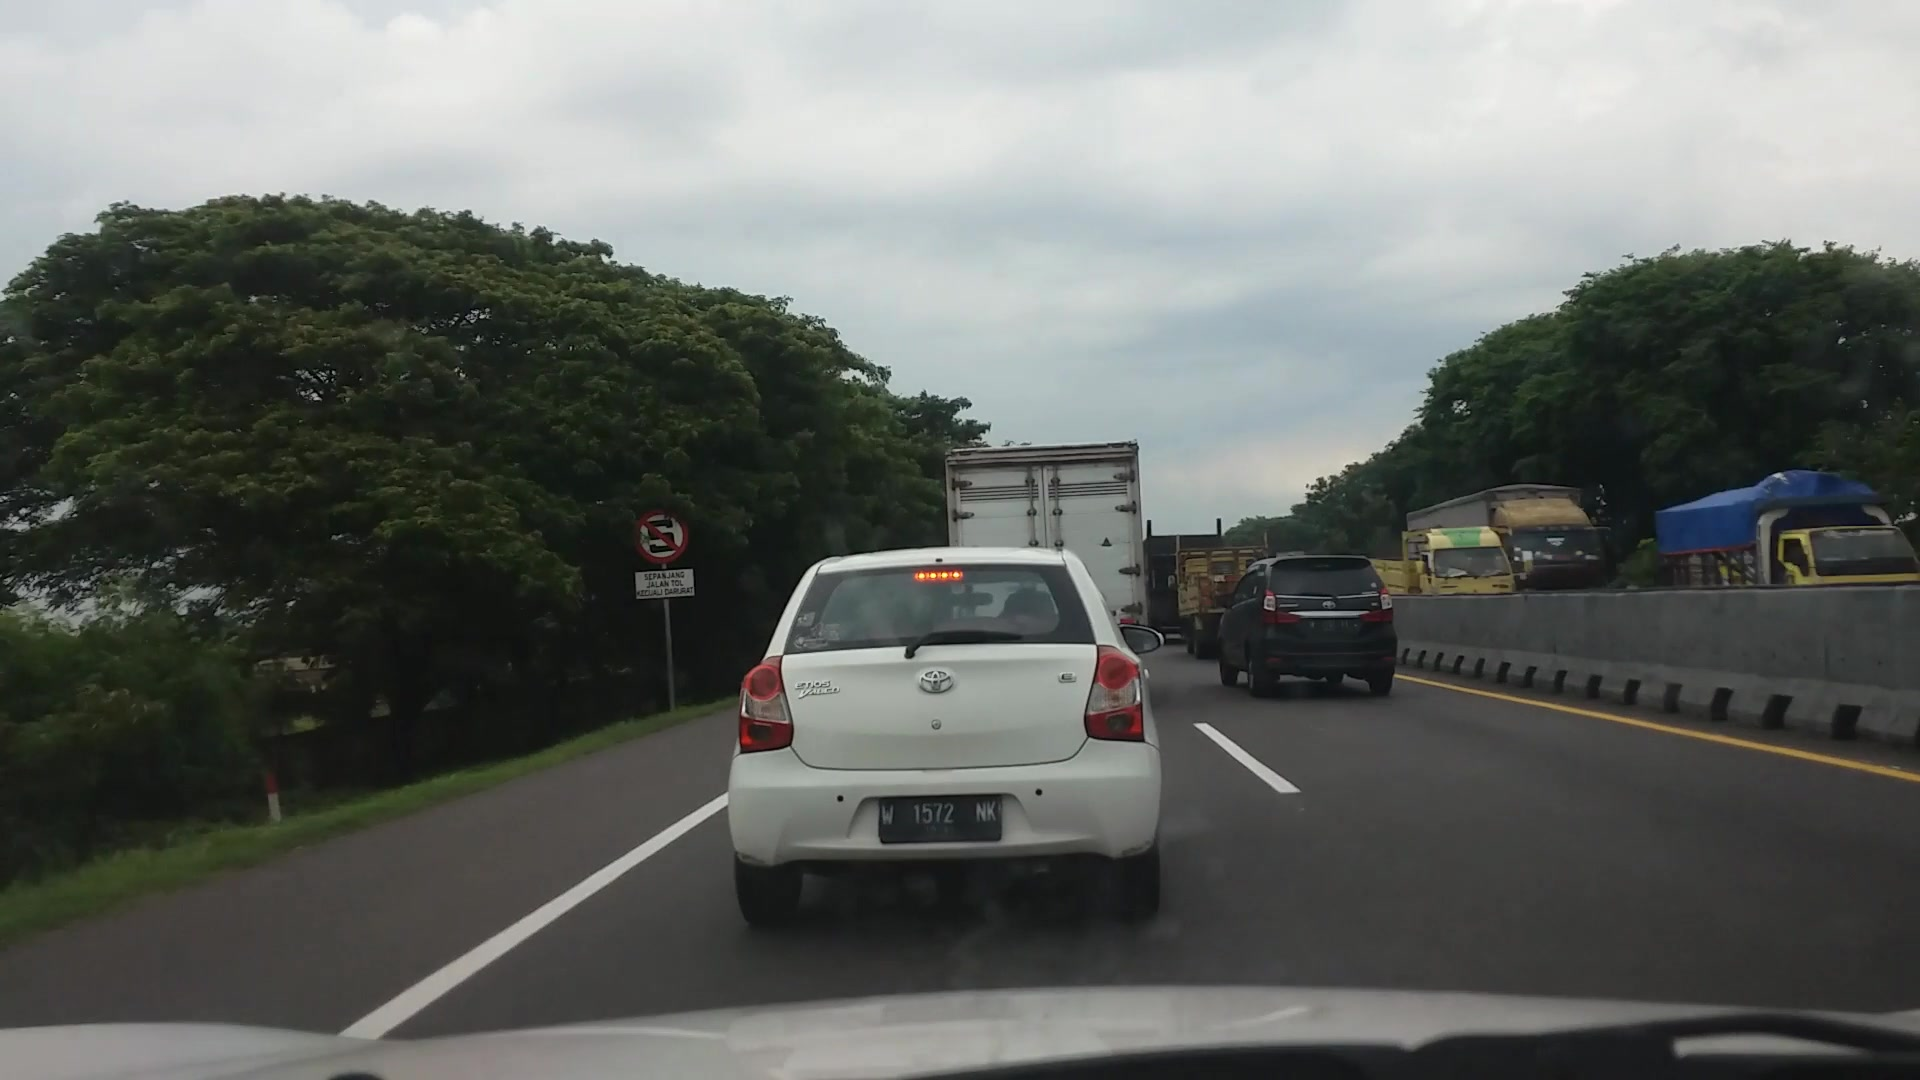plate_positive: (880, 794, 1002, 844)
